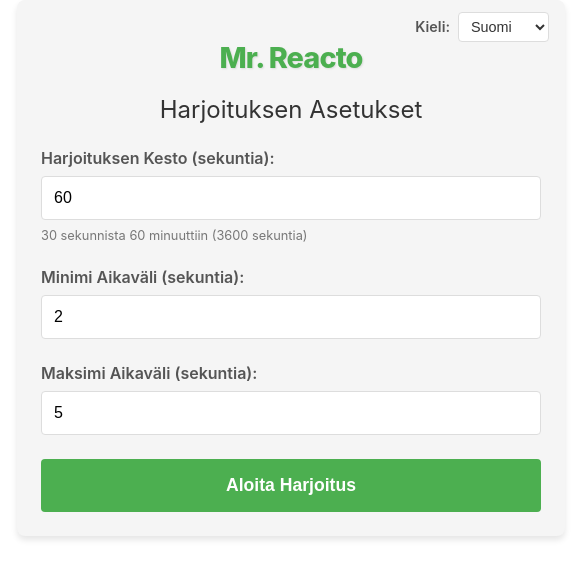
Test: SessionConfig Component › validates minimum interval is positive
Test negative value
Replace the text in the number field labelled "Minimi Aikaväli (sekuntia):" with "-1" at (291, 317), box left=41, top=295, right=541, bottom=339
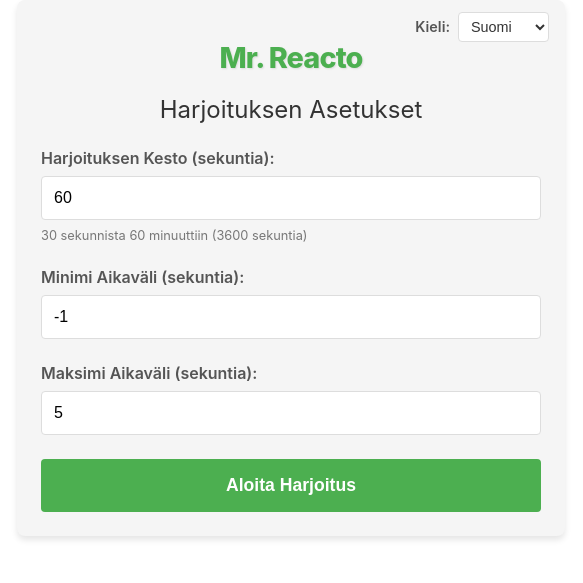
Leave the number field labelled "Minimi Aikaväli (sekuntia):", box left=41, top=295, right=541, bottom=339
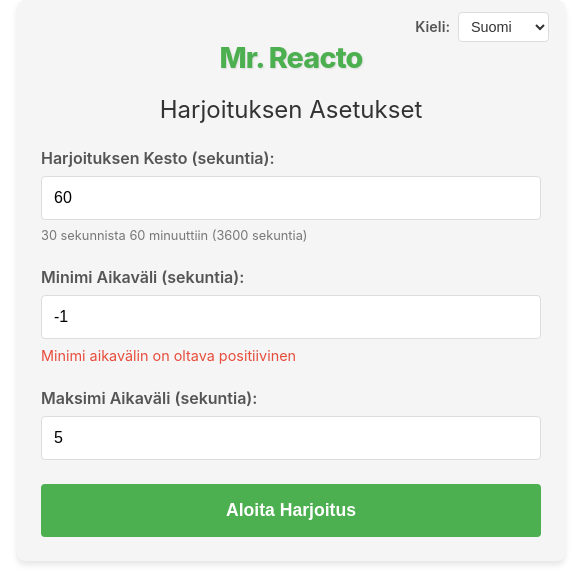
Expected: the text "Minimi aikavälin on oltava positiivinen" is shown, left=41, top=347, right=296, bottom=364
Test valid value
Replace the text in the number field labelled "Minimi Aikaväli (sekuntia):" with "1" at (291, 317), box left=41, top=295, right=541, bottom=339
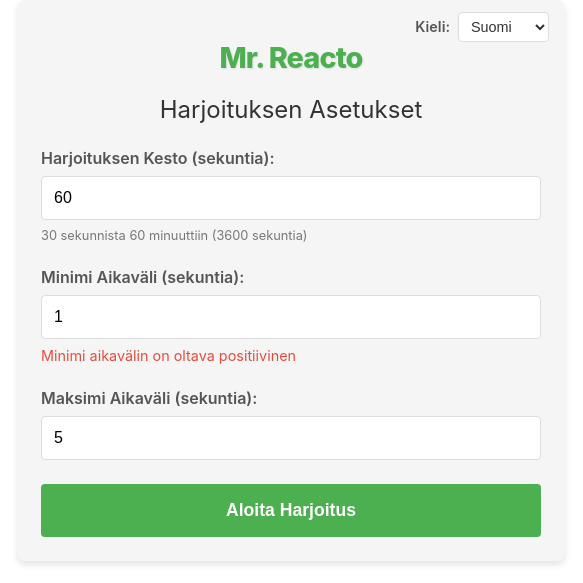
Leave the number field labelled "Minimi Aikaväli (sekuntia):", box left=41, top=295, right=541, bottom=339
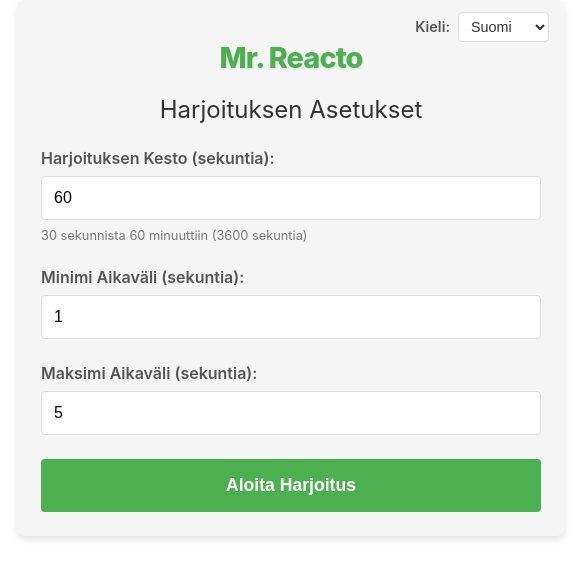
Expected: the text "Minimi aikavälin on oltava positiivinen" is gone
